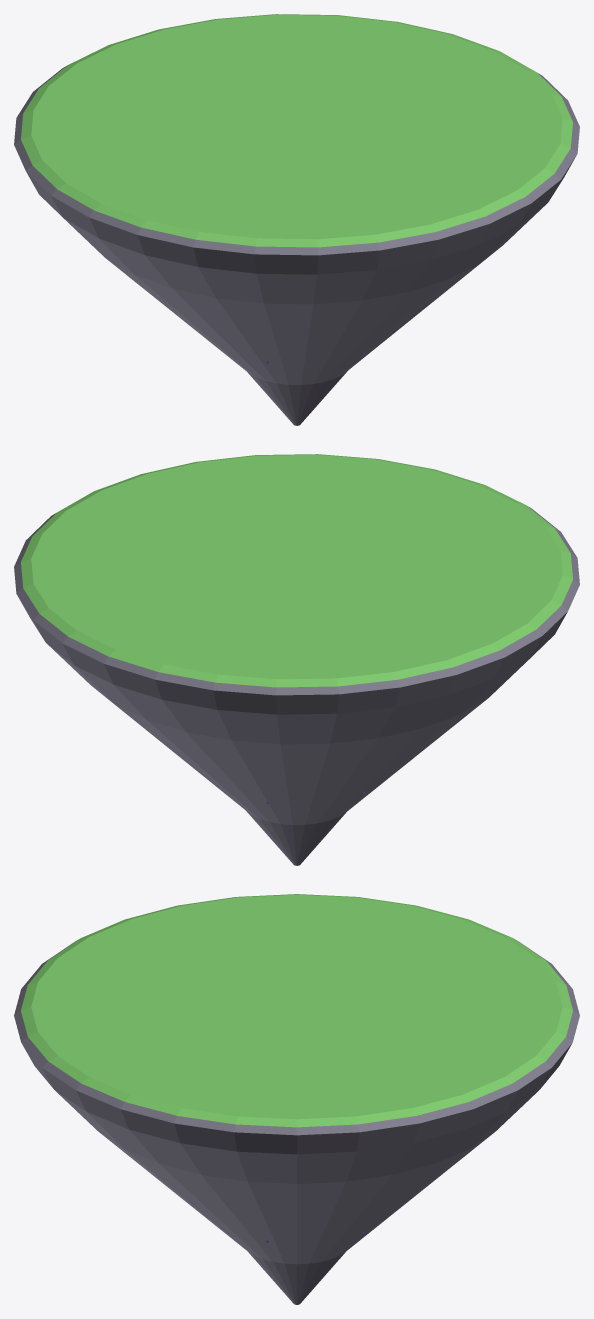
File: island_rock.glb
The picture shows the model from 3 angles, top to bottom: view 1: azimuth 30°, elevation 25°; view 2: azimuth 150°, elevation 25°; view 3: azimuth 270°, elevation 25°; orthographic projection.
Parts seen in each view (by area): view 1: LOD0; view 2: LOD0; view 3: LOD0.
Part boxes in pixels (x1=…): LOD0: x1=14, y1=14, x2=579, y2=425; LOD0: x1=14, y1=454, x2=579, y2=865; LOD0: x1=14, y1=894, x2=579, y2=1304.
Size of what is drawn, in the model's own units: 82 by 47.4 by 82.
